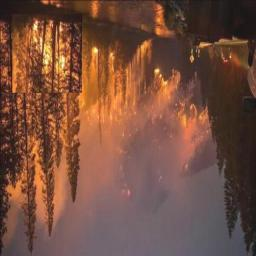Heavy smoke: (2, 124, 248, 256)
Large fire: (2, 3, 256, 109), (12, 19, 81, 93)
